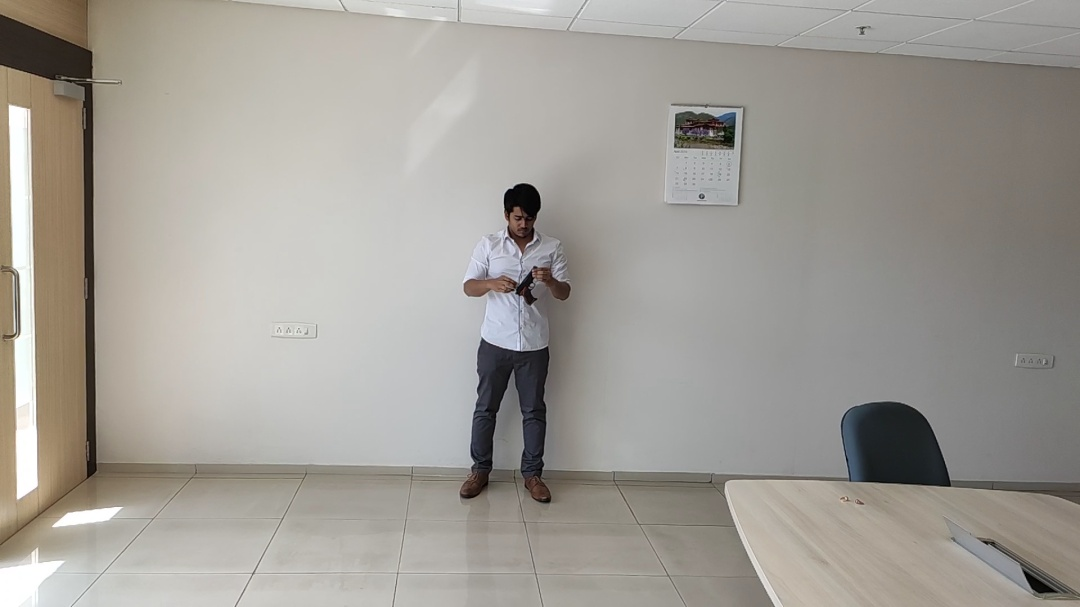gun: (514, 265, 540, 306)
